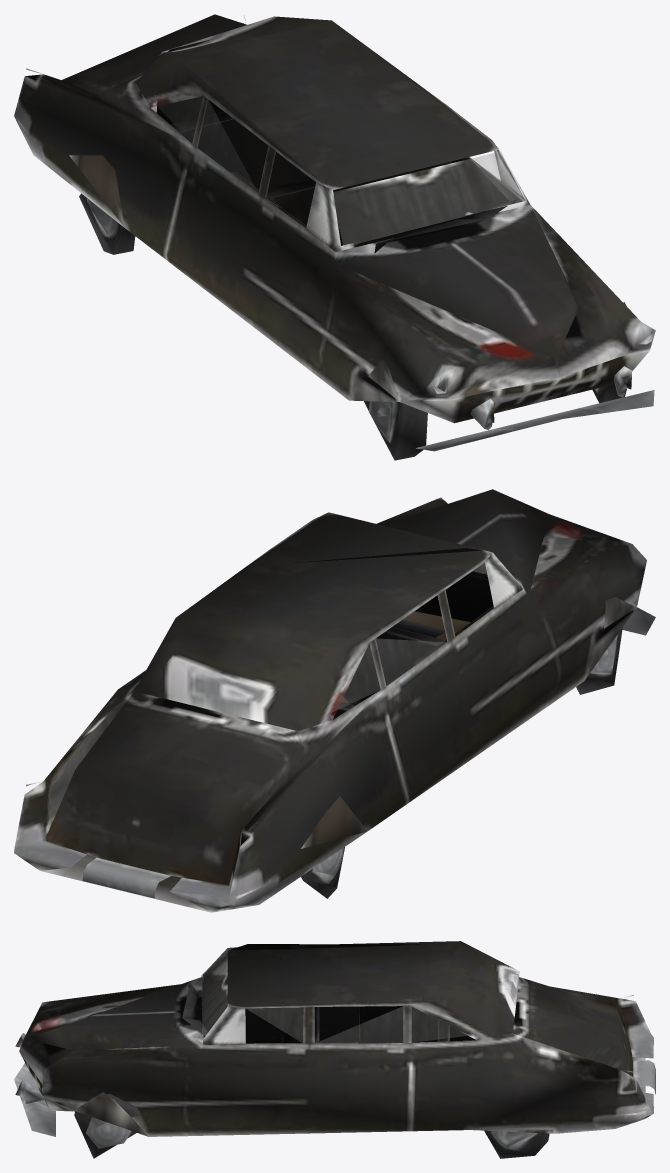
File: cadillac.lod1.glb
3 views of the same model, one above another, from view 1: azimuth 30°, elevation 25°; view 2: azimuth 150°, elevation 25°; view 3: azimuth 270°, elevation 25° (orthographic). The views are drawn at different scales.
Visible parts, largest first — view 1: Object_2; view 2: Object_2; view 3: Object_2.
Boxes of the visible parts, bbox=[...] form: Object_2: bbox=[14, 14, 655, 460]; Object_2: bbox=[14, 489, 655, 912]; Object_2: bbox=[14, 941, 655, 1158].
Bounding box in the file's own units: 1.79 × 1.46 × 5.54.
1 material, 1 textured.
